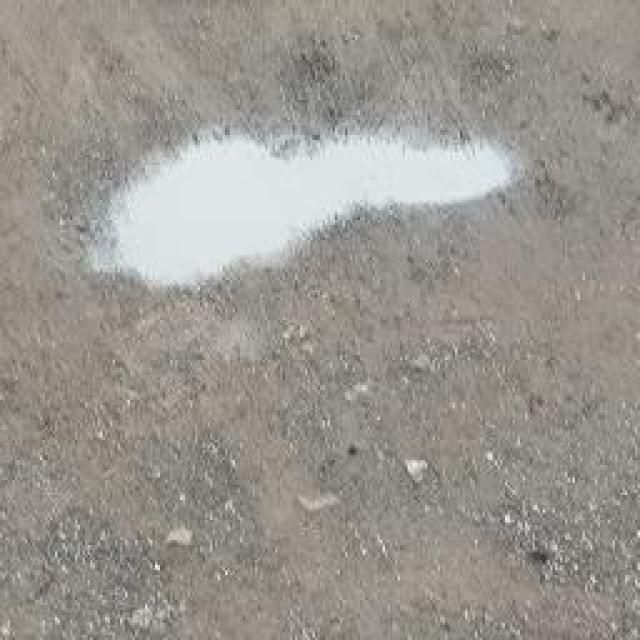waterlogging: (95, 114, 565, 283)
